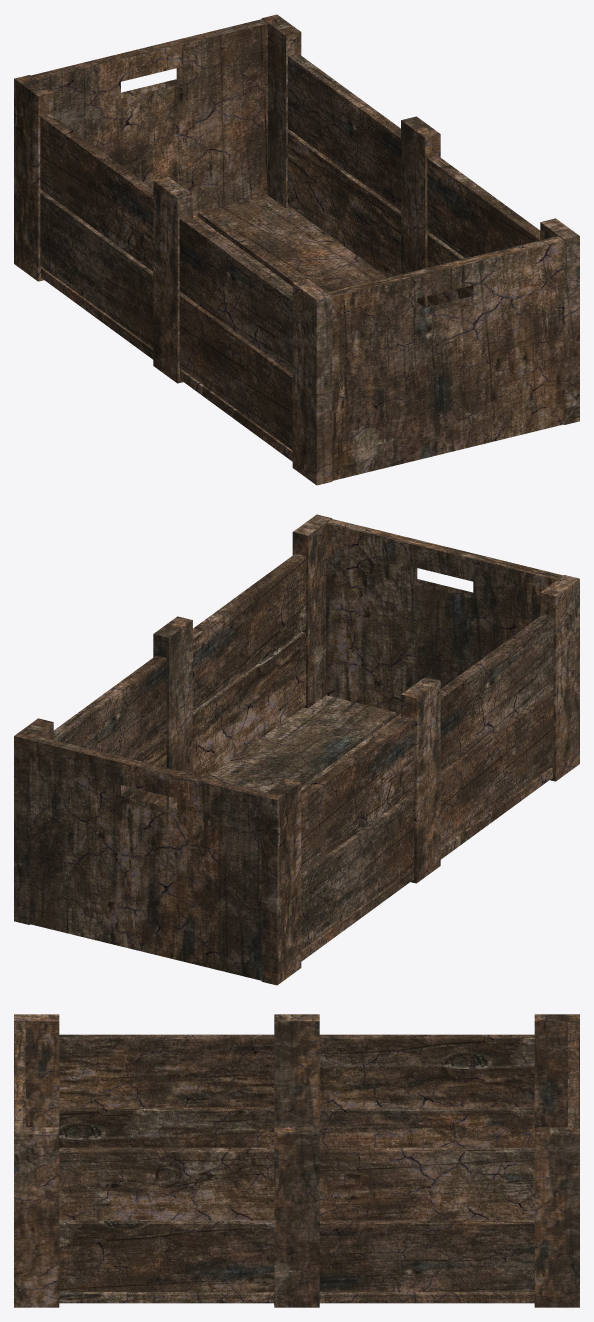
Rendered from crate_01.FBX.
The picture shows the model from 3 angles, top to bottom: view 1: azimuth 30°, elevation 25°; view 2: azimuth 150°, elevation 25°; view 3: azimuth 270°, elevation 25°; orthographic projection. The views are drawn at different scales.
Visible parts, largest first — view 1: crate_01; view 2: crate_01; view 3: crate_01.
Part boxes in pixels (x1,y1,x2,y2): crate_01: (14, 14, 579, 485); crate_01: (14, 514, 579, 985); crate_01: (14, 1014, 579, 1307).
Size of the model in its own units: 0.2716 by 0.1827 by 0.5411.
